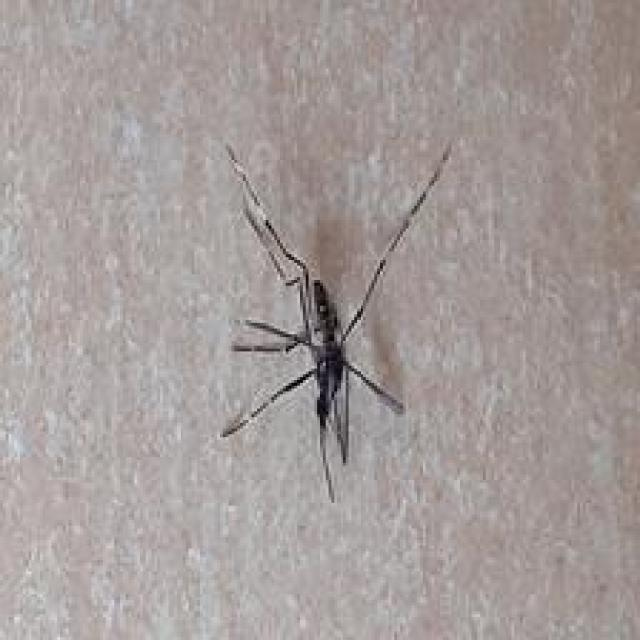Aedes albopictus: (217, 137, 454, 503)
